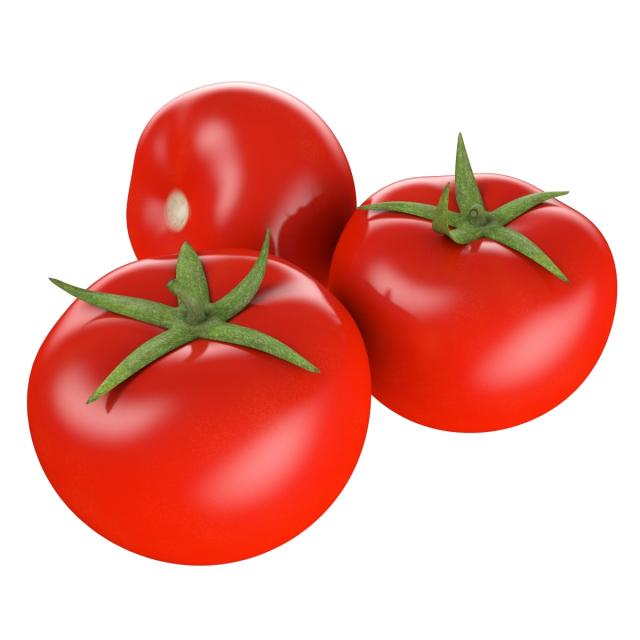Tomato: (26, 243, 380, 570), (324, 169, 620, 436), (123, 80, 357, 268)
